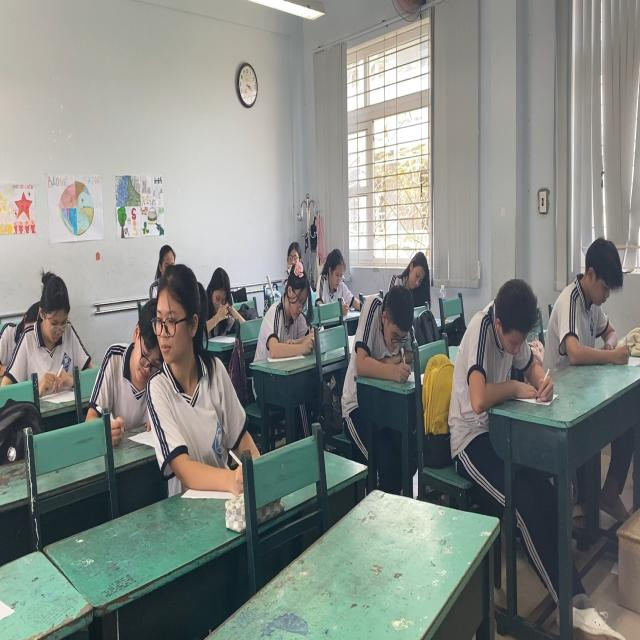cheating: (146, 260, 242, 502)
not_cheating: (453, 277, 549, 405), (549, 229, 637, 365), (24, 271, 88, 391), (252, 250, 321, 356), (103, 301, 158, 426), (352, 284, 417, 370), (314, 243, 358, 315), (393, 246, 434, 301)
